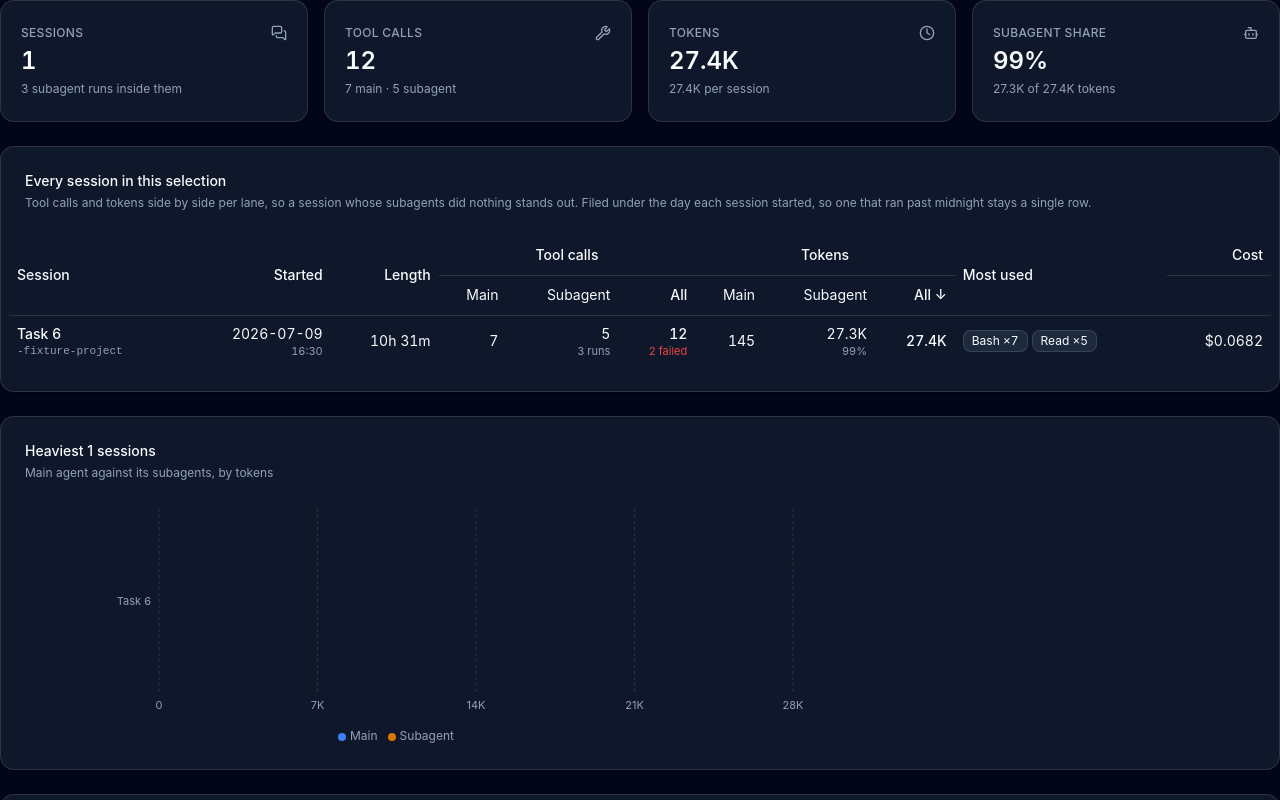
Test: Sessions detail dialog › breaks the session down by lane, tool and cost line
Click the row that starts with "Task 6".
click(70, 350)  # box x1=9 y1=315 x2=1271 y2=367
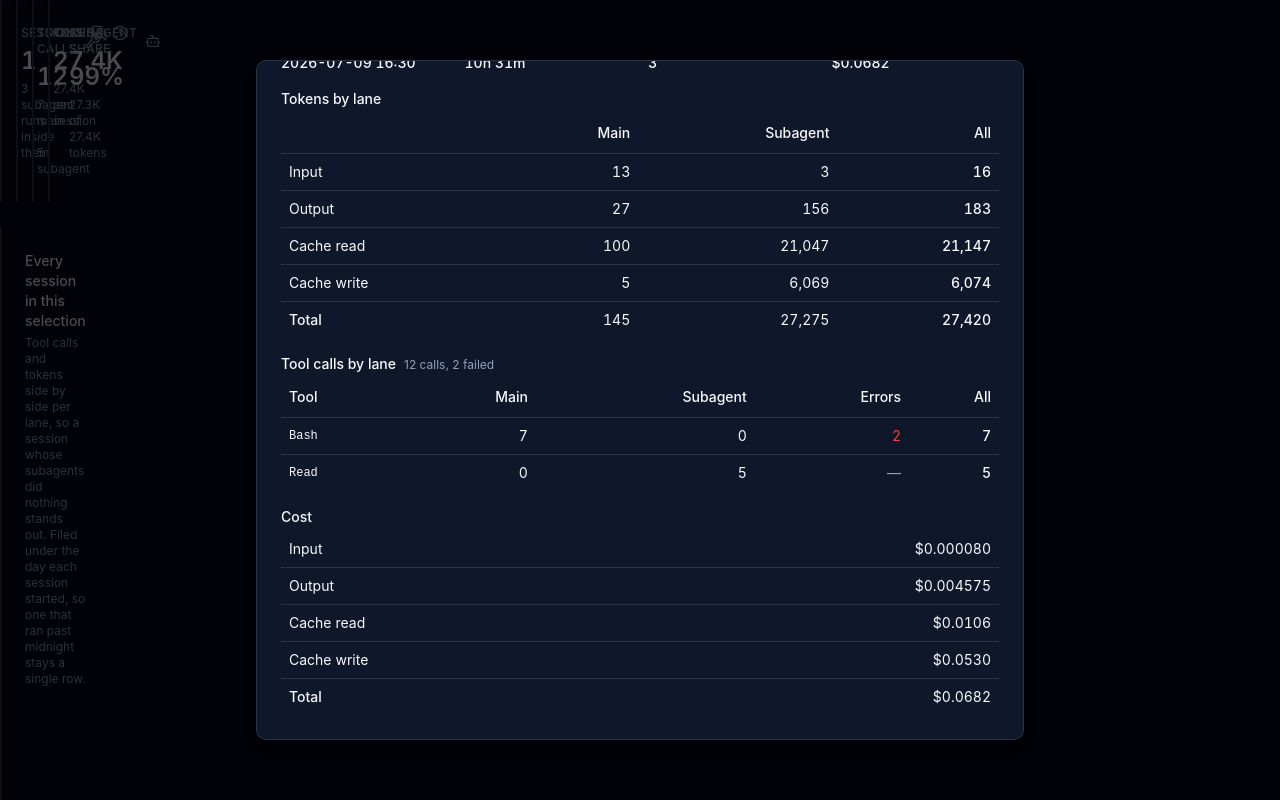
Check: the text "3" is shown, box x1=648 y1=60 x2=657 y2=71
Check: the text "145" is shown, box x1=518 y1=301 x2=638 y2=338
Check: the text "27,275" is shown, box x1=638 y1=301 x2=837 y2=338
